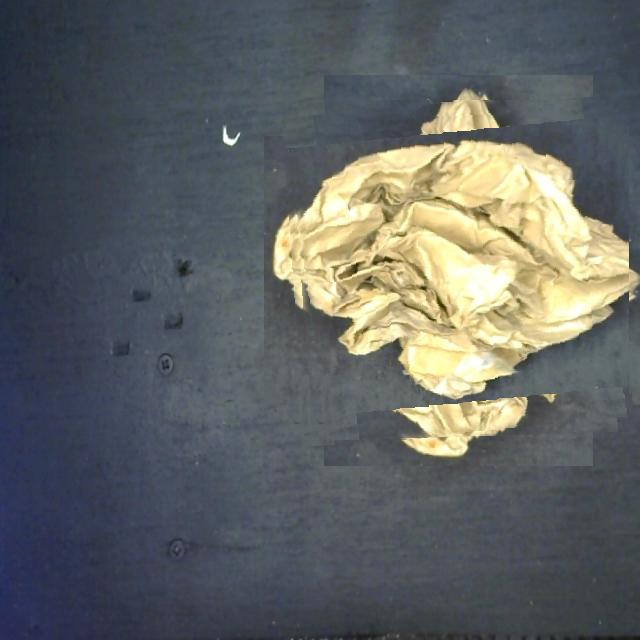biodegradable: (288, 100, 629, 441)
